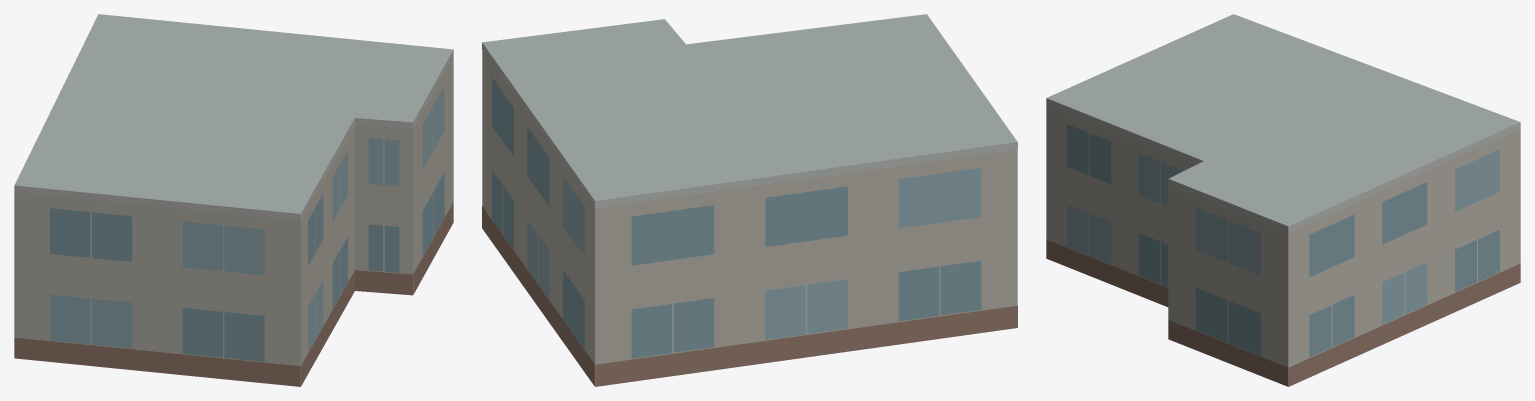
File: survey-upis-32866459.glb
3 views of the same model, side by side, from view 1: azimuth 30°, elevation 25°; view 2: azimuth 150°, elevation 25°; view 3: azimuth 270°, elevation 25° (orthographic). The views are drawn at different scales.
Parts seen in each view (by area): view 1: survey-upis-32866459.tmp; view 2: survey-upis-32866459.tmp; view 3: survey-upis-32866459.tmp.
Part boxes in pixels (left/top/right/bottom): survey-upis-32866459.tmp: left=14, top=14, right=453, bottom=386; survey-upis-32866459.tmp: left=482, top=14, right=1017, bottom=386; survey-upis-32866459.tmp: left=1046, top=14, right=1520, bottom=386.
Size of the model in its own units: 17.32 by 6.1 by 16.35.
